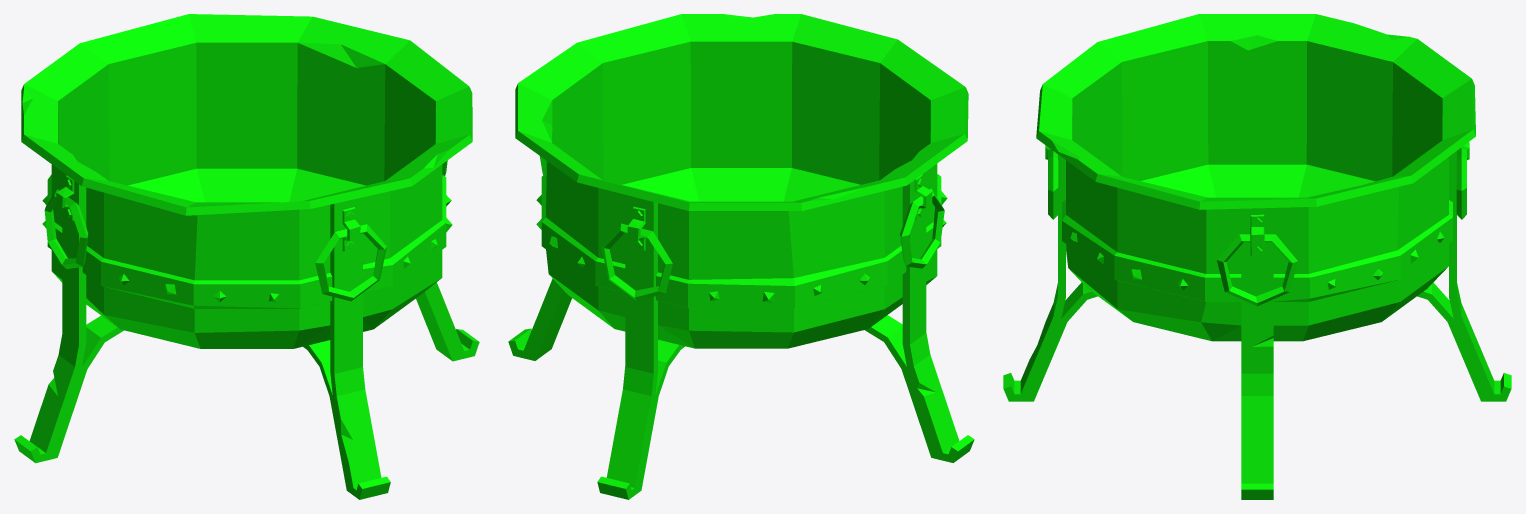
File: SM_Fire_Bin_A_Fantasy.fbx
3 renders of one model, left to right at view 1: azimuth 30°, elevation 25°; view 2: azimuth 150°, elevation 25°; view 3: azimuth 270°, elevation 25°, orthographic. The views are drawn at different scales.
Visible parts, largest first — view 1: fire-bin-a-fantasy; view 2: fire-bin-a-fantasy; view 3: fire-bin-a-fantasy.
Boxes of the visible parts, x1=… form: fire-bin-a-fantasy: x1=14, y1=14, x2=479, y2=499; fire-bin-a-fantasy: x1=508, y1=14, x2=974, y2=499; fire-bin-a-fantasy: x1=1003, y1=14, x2=1511, y2=499.
Bounding box in the file's own units: 0.9341 × 0.5895 × 0.9341.
